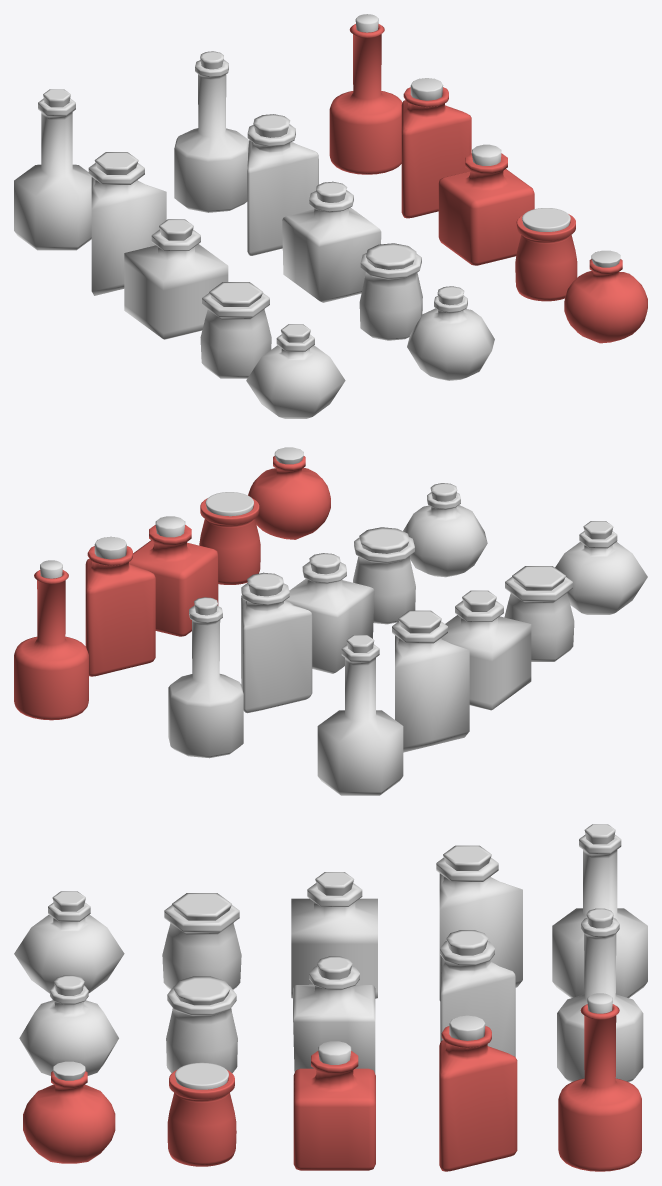
File: Glass-Bottles-Free-Pack-LODS-shared-uvs-plus-liquid.fbx
3 renders of one model, top to bottom at view 1: azimuth 30°, elevation 25°; view 2: azimuth 150°, elevation 25°; view 3: azimuth 270°, elevation 25°, orthographic. The views are drawn at different scales.
Visible parts, largest first — view 1: Long Neck Bottle LP Glass, Square Bottle LP Glass, Square Bottle HP Glass, Square Bottle MP Glass, Long Neck Bottle MP Glass, Long Neck Bottle HP Glass, Triangle Bottle LP Glass, Triangle Bottle HP Glass, Triangle Bottle MP Glass, Round Bottle LP Glass, Round Bottle MP Glass, Round Bottle HP Glass (+10 smaller); view 2: Long Neck Bottle LP Glass, Triangle Bottle LP Glass, Triangle Bottle MP Glass, Triangle Bottle HP Glass, Long Neck Bottle MP Glass, Long Neck Bottle HP Glass, Square Bottle LP Glass, Square Bottle HP Glass, Square Bottle MP Glass, Round Bottle LP Glass, Round Bottle HP Glass, Round Bottle MP Glass (+12 smaller); view 3: Triangle Bottle HP Glass, Long Neck Bottle HP Glass, Square Bottle HP Glass, Long Neck Bottle LP Glass, Square Bottle LP Glass, Long Neck Bottle MP Glass, Triangle Bottle LP Glass, Square Bottle MP Glass, Round Bottle HP Glass, Round Bottle LP Glass, Triangle Bottle MP Glass, Round Bottle MP Glass (+16 smaller).
Boxes of the visible parts, <box> form: Long Neck Bottle LP Glass: <box>14,98,91,250</box>; Square Bottle LP Glass: <box>124,229,228,339</box>; Square Bottle HP Glass: <box>438,153,534,265</box>; Square Bottle MP Glass: <box>282,190,381,302</box>; Long Neck Bottle MP Glass: <box>174,59,248,212</box>; Long Neck Bottle HP Glass: <box>329,24,402,174</box>; Triangle Bottle LP Glass: <box>88,163,166,295</box>; Triangle Bottle HP Glass: <box>401,87,471,218</box>; Triangle Bottle MP Glass: <box>247,124,318,255</box>; Round Bottle LP Glass: <box>246,334,345,418</box>; Round Bottle MP Glass: <box>407,295,494,380</box>; Round Bottle HP Glass: <box>564,259,647,343</box>; Long Neck Bottle LP Glass: <box>317,644,403,795</box>; Triangle Bottle LP Glass: <box>392,621,469,752</box>; Triangle Bottle MP Glass: <box>241,583,312,713</box>; Triangle Bottle HP Glass: <box>85,546,155,676</box>; Long Neck Bottle MP Glass: <box>168,605,243,758</box>; Long Neck Bottle HP Glass: <box>14,570,88,720</box>; Square Bottle LP Glass: <box>441,600,531,710</box>; Square Bottle HP Glass: <box>129,525,218,636</box>; Square Bottle MP Glass: <box>286,561,374,673</box>; Round Bottle LP Glass: <box>555,531,647,614</box>; Round Bottle HP Glass: <box>248,456,330,539</box>; Round Bottle MP Glass: <box>403,492,487,577</box>; Triangle Bottle HP Glass: <box>439,1026,517,1171</box>; Long Neck Bottle HP Glass: <box>558,1004,641,1171</box>; Square Bottle HP Glass: <box>293,1051,375,1170</box>; Long Neck Bottle LP Glass: <box>552,834,647,997</box>; Square Bottle LP Glass: <box>291,883,377,998</box>; Long Neck Bottle MP Glass: <box>557,918,643,1081</box>; Triangle Bottle LP Glass: <box>436,857,522,1000</box>; Square Bottle MP Glass: <box>293,966,375,1073</box>; Round Bottle HP Glass: <box>23,1071,115,1163</box>; Round Bottle LP Glass: <box>14,902,124,993</box>; Triangle Bottle MP Glass: <box>440,941,515,1056</box>; Round Bottle MP Glass: <box>19,985,118,1075</box>.
Size of the model in its own units: 3710 by 1311 by 4777.
